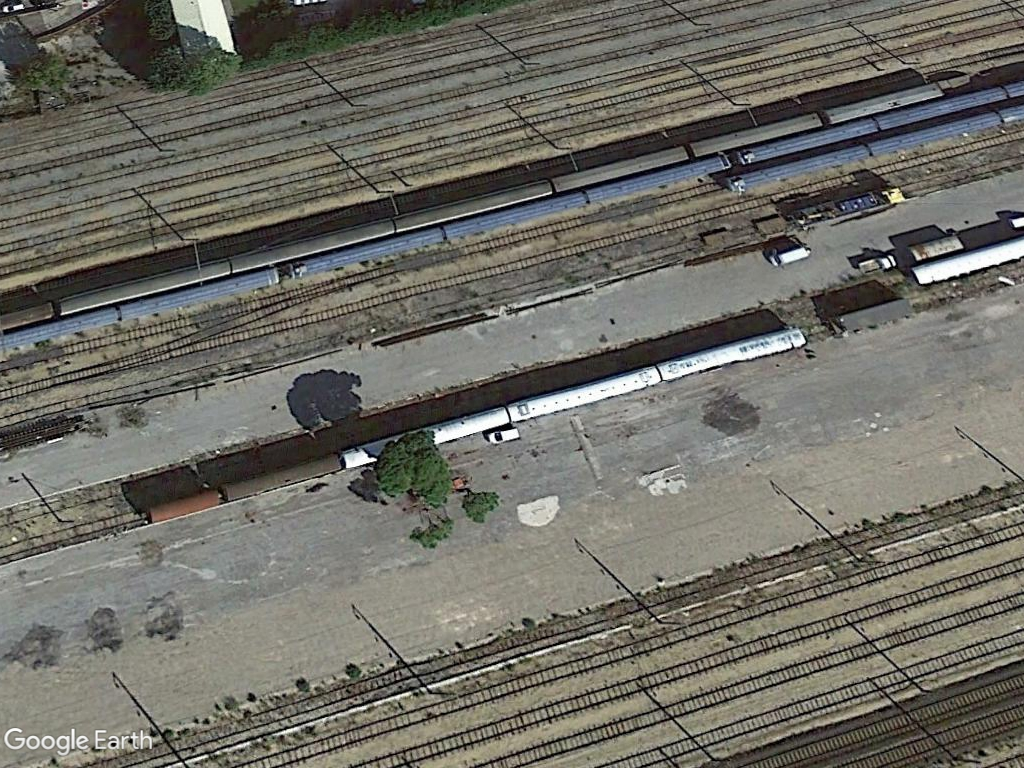truck: (763, 241, 815, 270)
